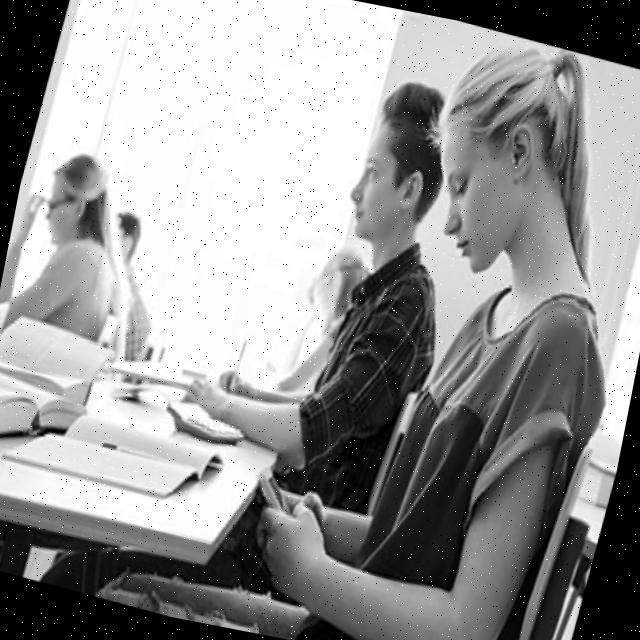phone: (250, 463, 303, 518), (28, 190, 44, 217)
